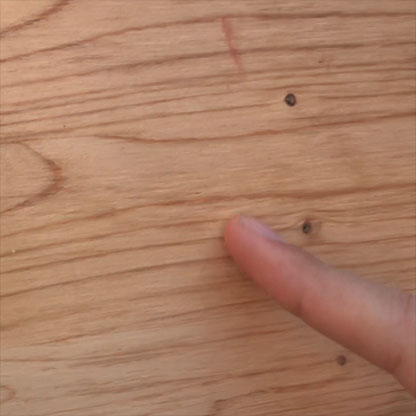fingertip: (213, 203, 289, 282)
